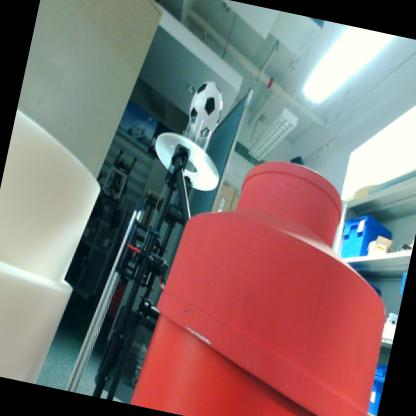ball: (184, 77, 228, 144)
